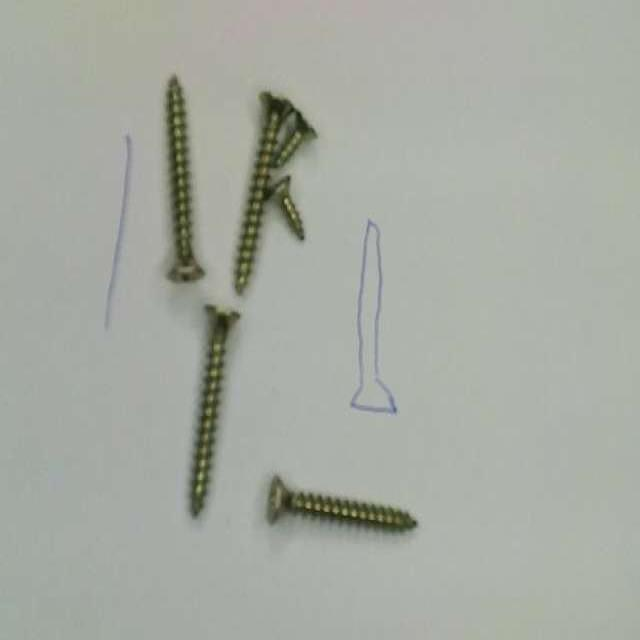Parafuso: (235, 93, 292, 293), (191, 305, 239, 515), (269, 476, 416, 531), (167, 76, 203, 281), (272, 109, 316, 168), (269, 177, 303, 239)
